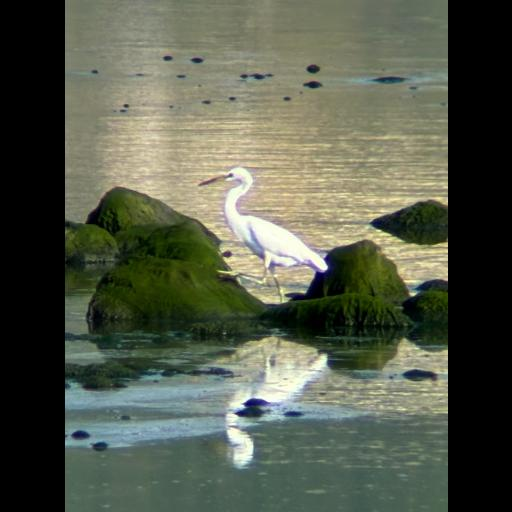chinese_egret: (196, 164, 328, 304)
